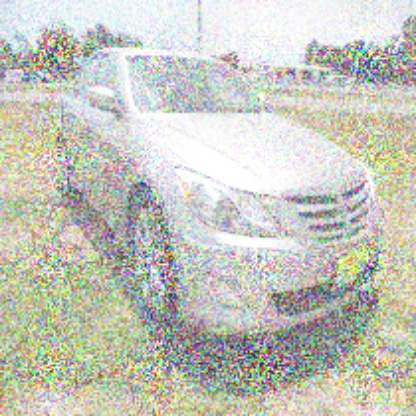Vehicle: (58, 46, 384, 336)
